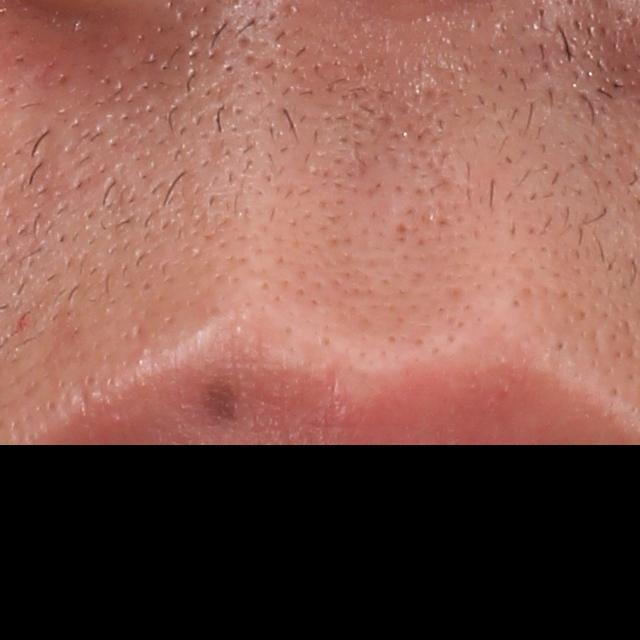nevus: (197, 371, 246, 429)
